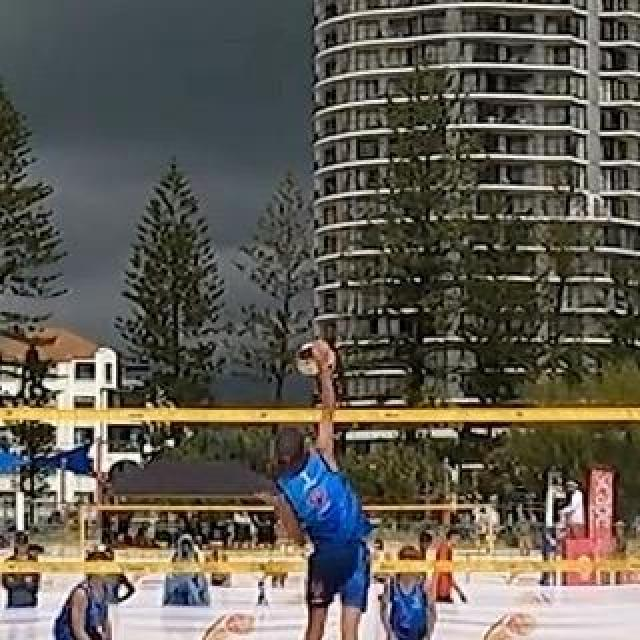volleyball: (297, 341, 335, 377)
